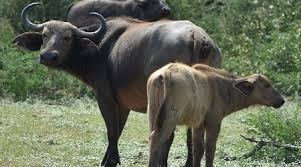buffalo: (11, 1, 225, 167), (144, 61, 287, 167)
